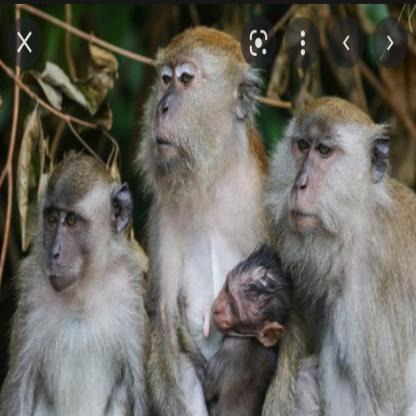monkey: (264, 89, 416, 415), (126, 15, 268, 335), (0, 152, 148, 415)
